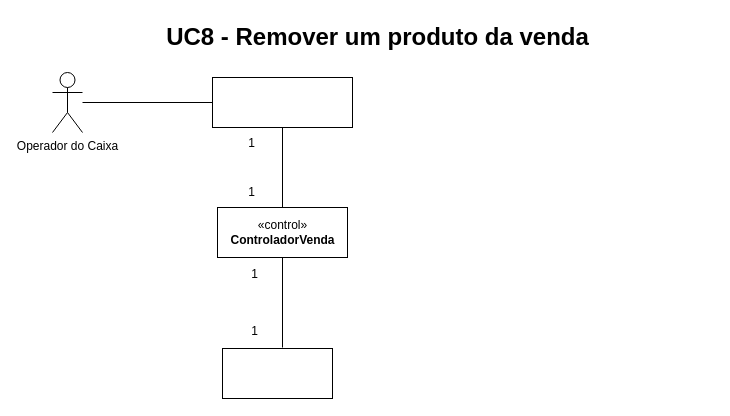
This 730x416 diagram has some shape labels left out. The shapes that lost their labels are listed below. From the top down, each one's centre as x and y in pixels, then its label:
At (x=282, y=102): "«boundary» RetirarProdutoDaVenda".
At (x=277, y=373): "«entity» ProdutoRemovido".
